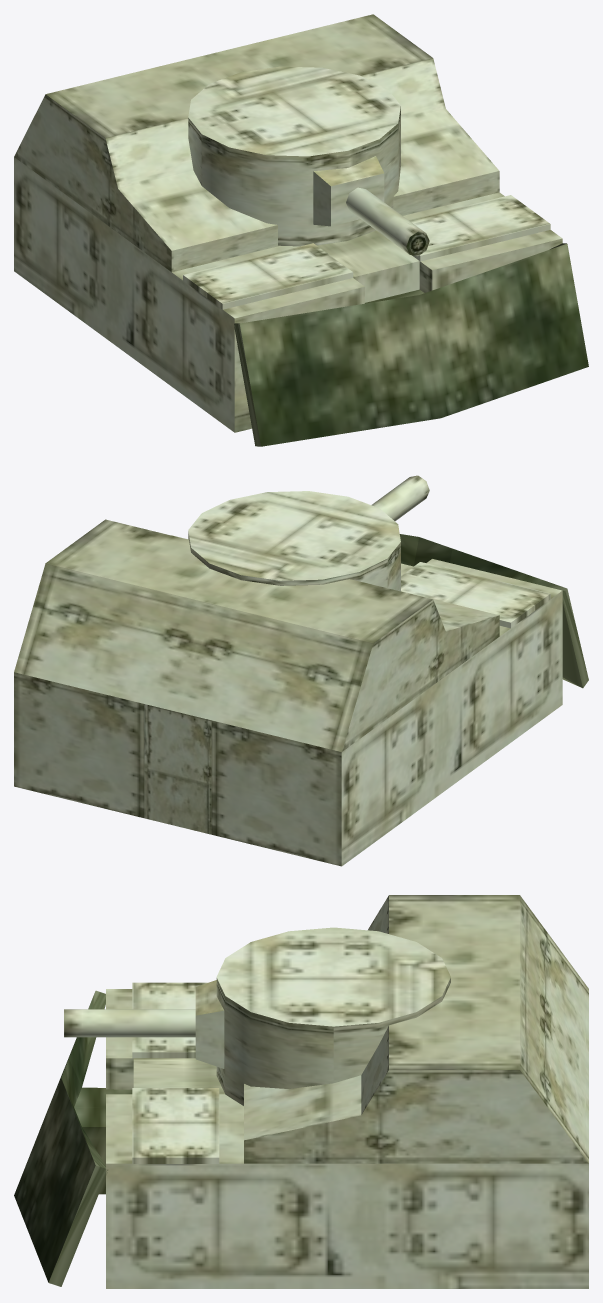
The model's file is SVAROG.obj.
The picture shows the model from 3 angles, top to bottom: view 1: azimuth 30°, elevation 25°; view 2: azimuth 150°, elevation 25°; view 3: azimuth 270°, elevation 25°; orthographic projection. The views are drawn at different scales.
Visible parts, largest first — view 1: Cube.001, Cube.006, Cube.002, Cylinder, Cube.005, Cube.004, Cube.003, Cube, Cube.007, Cylinder.001; view 2: Cube.001, Cube.002, Cylinder, Cube.003, Cube, Cube.005, Cube.006, Cylinder.001; view 3: Cube.003, Cube.001, Cylinder, Cube.006, Cube.004, Cylinder.001, Cube.005, Cube, Cube.007, Cube.002.
Part boxes in pixels (box(x1,y1,x2,y2)): Cube.001: box(14, 14, 499, 272); Cube.006: box(234, 243, 588, 446); Cube.002: box(14, 157, 364, 432); Cylinder: box(188, 66, 400, 246); Cube.005: box(183, 243, 353, 309); Cube.004: box(408, 195, 550, 261); Cube.003: box(403, 192, 562, 292); Cube: box(317, 230, 419, 302); Cube.007: box(313, 156, 384, 226); Cylinder.001: box(346, 187, 429, 256); Cube.001: box(14, 519, 499, 751); Cube.002: box(211, 559, 562, 866); Cylinder: box(188, 491, 400, 591); Cube.003: box(14, 672, 144, 817); Cube: box(144, 563, 413, 834); Cube.005: box(401, 562, 550, 628); Cube.006: box(399, 534, 588, 688); Cylinder.001: box(371, 475, 429, 521); Cube.003: box(106, 1094, 588, 1288); Cube.001: box(244, 895, 588, 1163); Cylinder: box(216, 927, 450, 1105); Cube.006: box(14, 990, 132, 1286); Cube.004: box(132, 1088, 219, 1163); Cylinder.001: box(64, 1009, 195, 1037); Cube.005: box(132, 982, 207, 1058); Cube: box(133, 1058, 224, 1094); Cube.007: box(195, 980, 224, 1068); Cube.002: box(106, 989, 133, 1089).
Bounding box in the file's own units: 6 × 3.59 × 8.34.
Materials: 1 (1 with a texture image).
